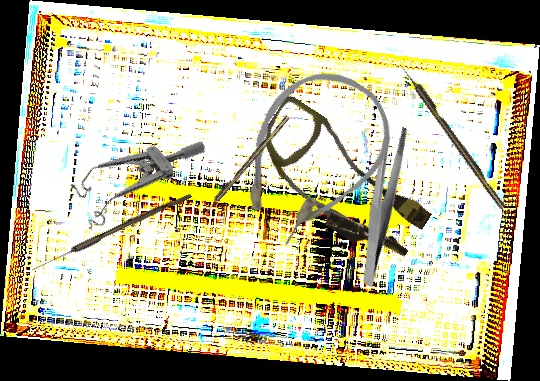Cannula: (211, 49, 411, 264), (239, 93, 445, 271)
Dressing Forceps: (322, 121, 442, 288)
Hook Surgical: (399, 63, 507, 211), (201, 114, 291, 217)
Speculum: (59, 102, 208, 241)
Surgical Spoon: (31, 190, 192, 274)
